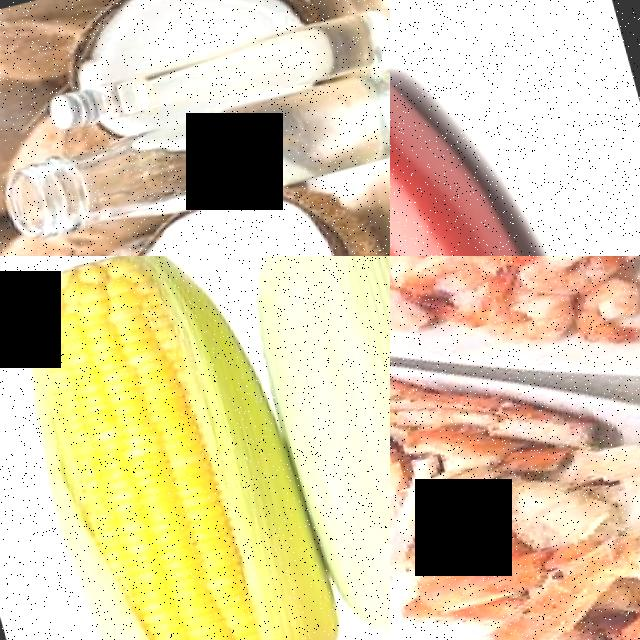chilli: (390, 107, 610, 256)
coconut: (43, 0, 317, 88), (88, 178, 390, 256)
corn: (0, 256, 296, 640)
crab: (401, 517, 640, 640)
